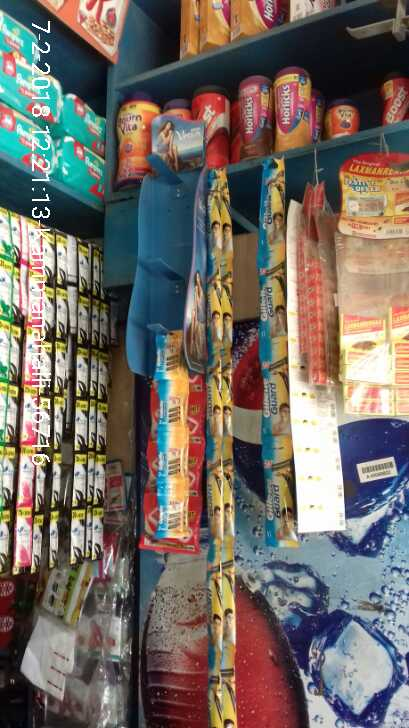gillette: (70, 245, 113, 569), (263, 461, 301, 546), (259, 378, 297, 460), (258, 163, 287, 267), (254, 278, 285, 364), (157, 482, 186, 542), (159, 424, 190, 476), (155, 332, 187, 379), (156, 384, 182, 427)
